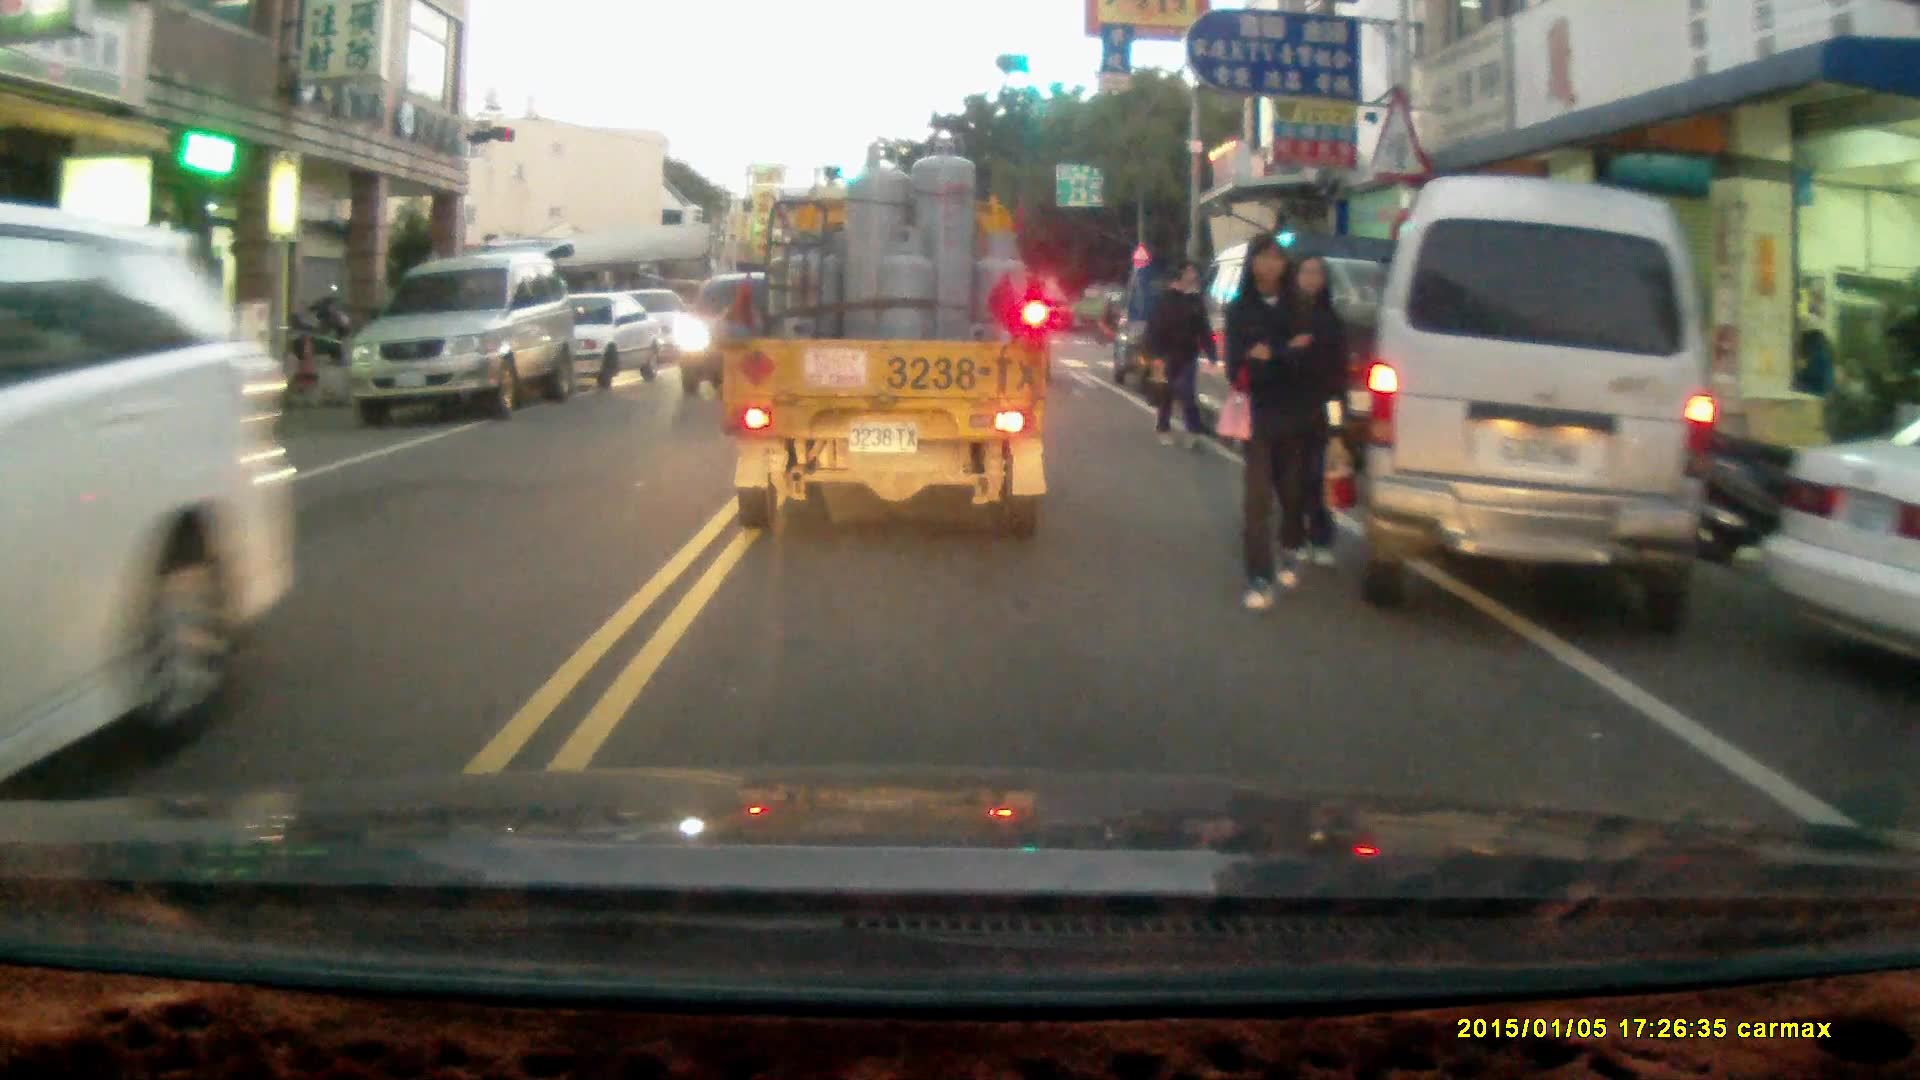pedestrian: (1224, 227, 1320, 609), (1146, 260, 1211, 456)
rider: (1094, 293, 1127, 342)
vehicle: (1, 209, 299, 804), (1355, 177, 1722, 636), (716, 132, 1054, 534), (1170, 224, 1459, 451), (350, 247, 581, 429), (1758, 419, 1920, 660), (512, 291, 668, 393)
